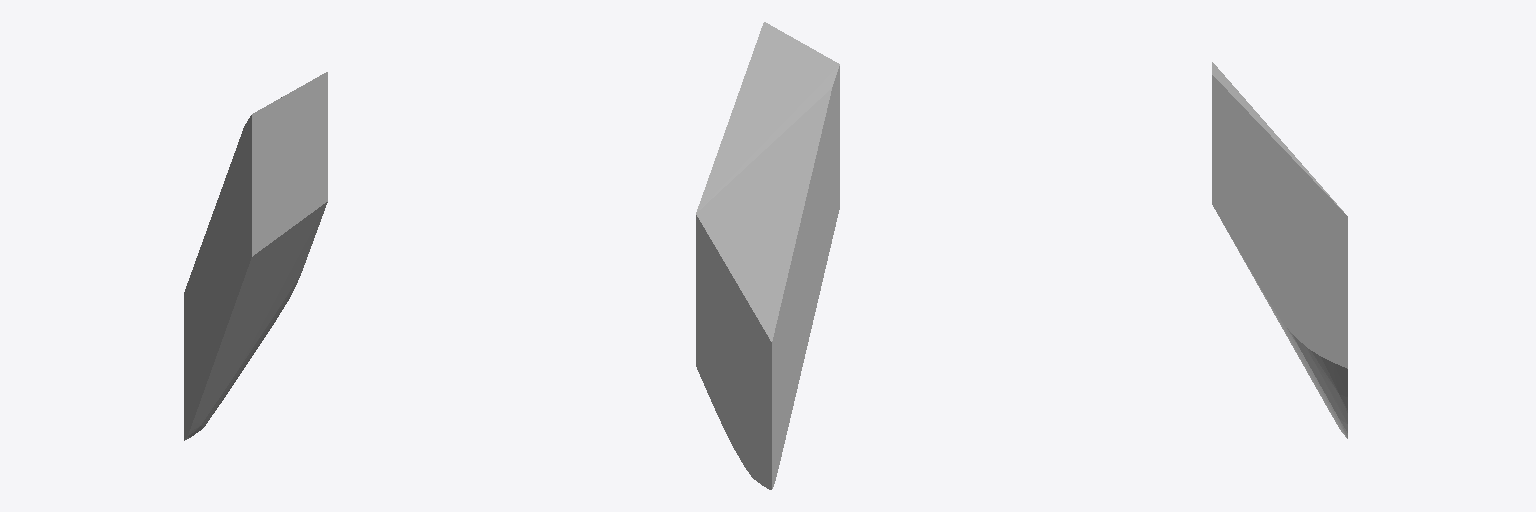
Rendered from Bowl_21_collision_18.obj.
3 renders of one model, left to right at view 1: azimuth 30°, elevation 25°; view 2: azimuth 150°, elevation 25°; view 3: azimuth 270°, elevation 25°, orthographic.
Bounding box in the file's own units: 0.0172 × 0.0865 × 0.0266.